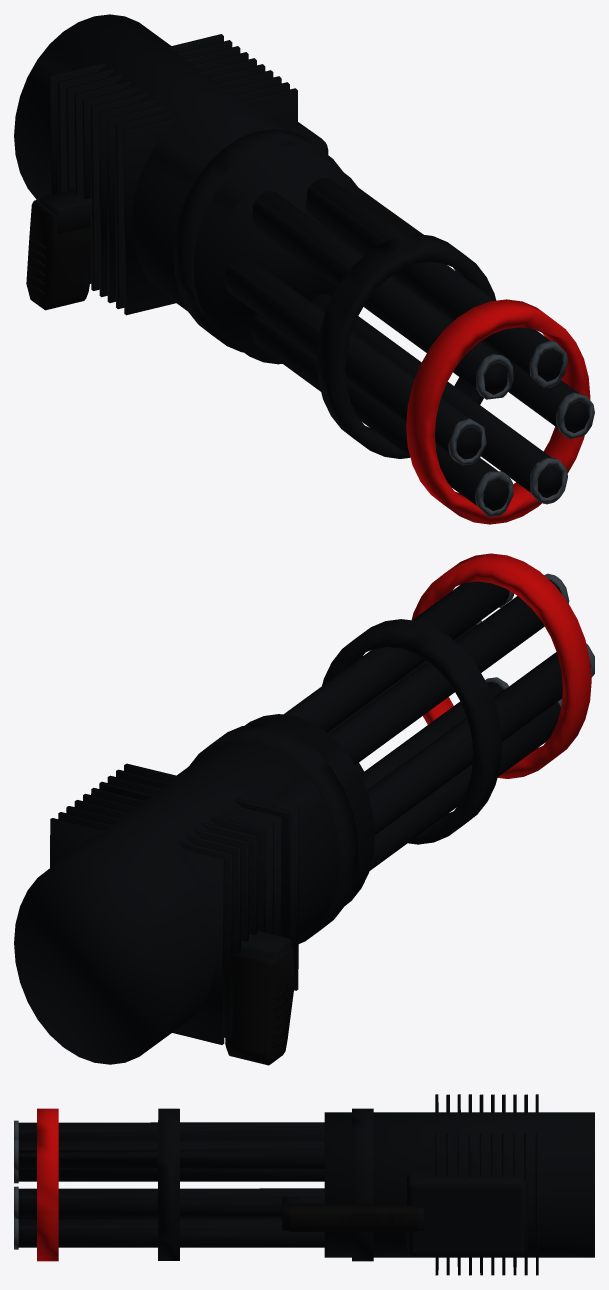
File: weapon_minigun.glb
3 renders of one model, top to bottom at view 1: azimuth 30°, elevation 25°; view 2: azimuth 150°, elevation 25°; view 3: azimuth 270°, elevation 25°, orthographic. The views are drawn at different scales.
Parts seen in each view (by area): view 1: weapon_minigun; view 2: weapon_minigun; view 3: weapon_minigun.
Part boxes in pixels (<box>): weapon_minigun: <box>14,14,594,524</box>; weapon_minigun: <box>14,553,594,1065</box>; weapon_minigun: <box>14,1094,594,1275</box>.
Size of the model in its own units: 0.3766 by 0.338 by 1.2.
1 material, 1 textured.
